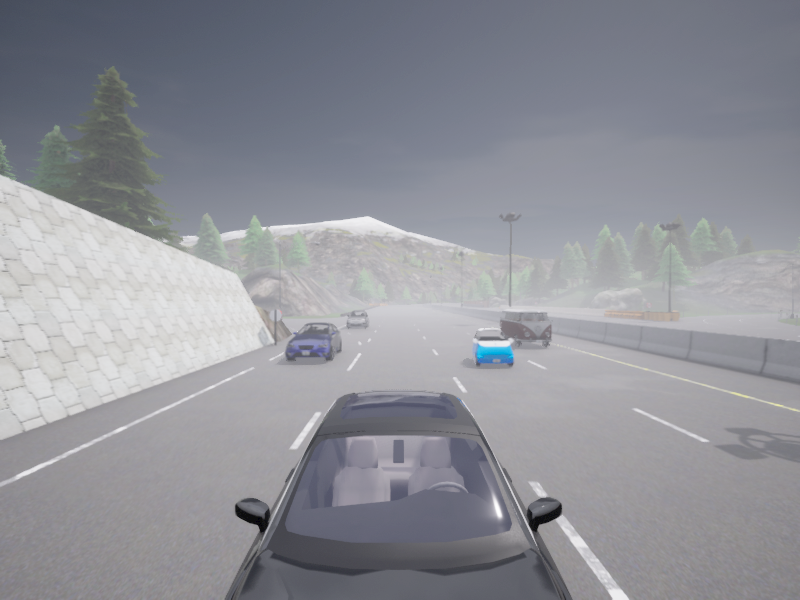vehicle: (224, 390, 572, 599), (285, 322, 341, 361), (500, 309, 552, 346), (472, 328, 513, 366), (346, 310, 368, 328)
